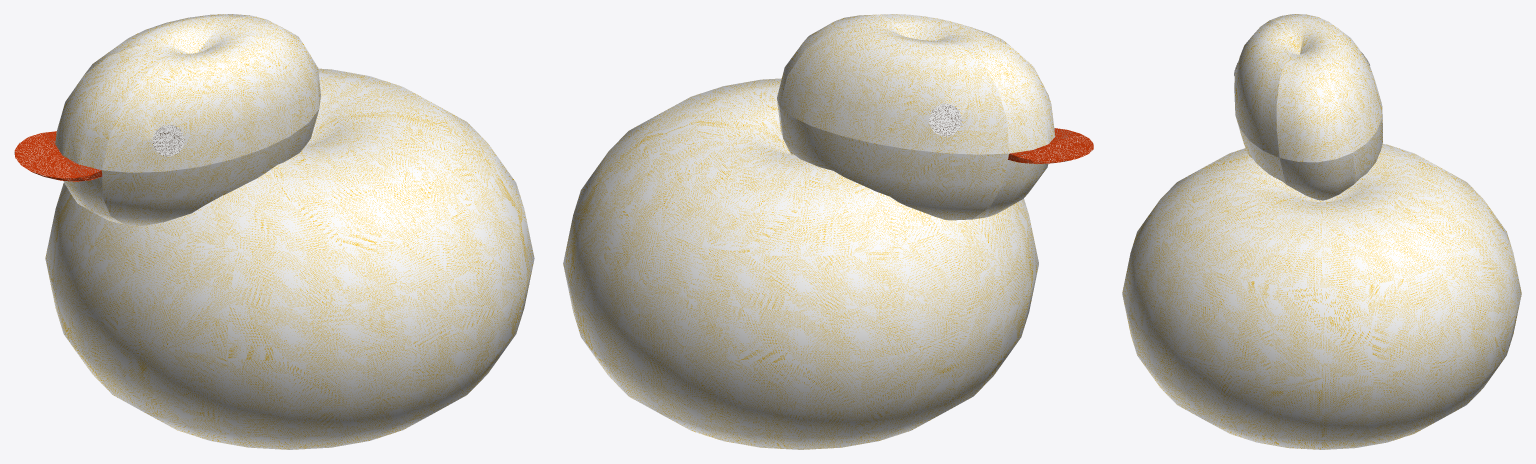
File: ducky.dae
The picture shows the model from 3 angles, left to right: view 1: azimuth 30°, elevation 25°; view 2: azimuth 150°, elevation 25°; view 3: azimuth 270°, elevation 25°; orthographic projection. The views are drawn at different scales.
Visible parts, largest first — view 1: SketchUp (×4); view 2: SketchUp (×4); view 3: SketchUp (×2).
Part boxes in pixels (x1,y1,x2,y2): SketchUp (×4): [14, 14, 534, 449]; SketchUp (×4): [563, 14, 1093, 449]; SketchUp (×2): [1122, 14, 1521, 449].
Size of the model in its own units: 91.77 by 78.74 by 70.34.
